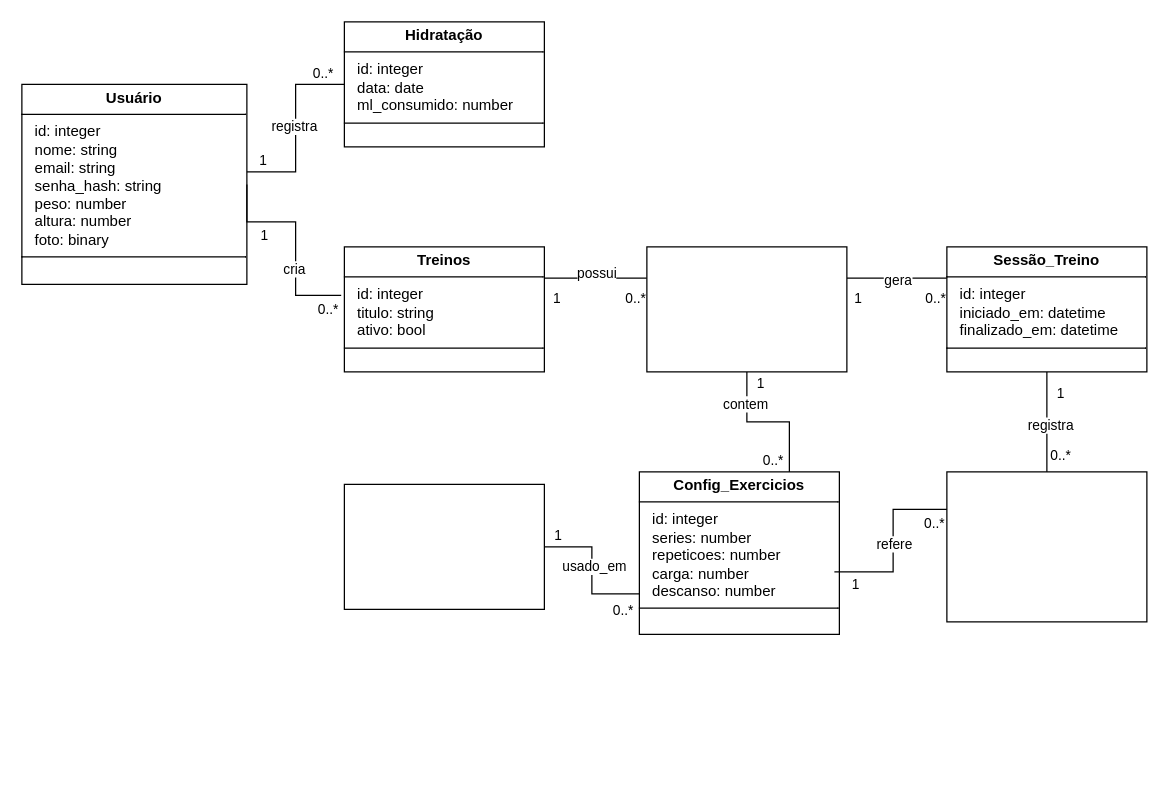
The diagram is 1169 pixels wide and 798 high, and some of its shapes have lost their labels. Each missing label, with the box of its shape:
Dia_Treino id: integer nome: string dia_semana: string: (646, 246, 847, 372)
Exercicios id: integer nome: string grupo_muscular: string: (343, 483, 544, 609)
Série_Executada id: integer numero: number repeticoes: number carga: number: (946, 471, 1147, 622)
